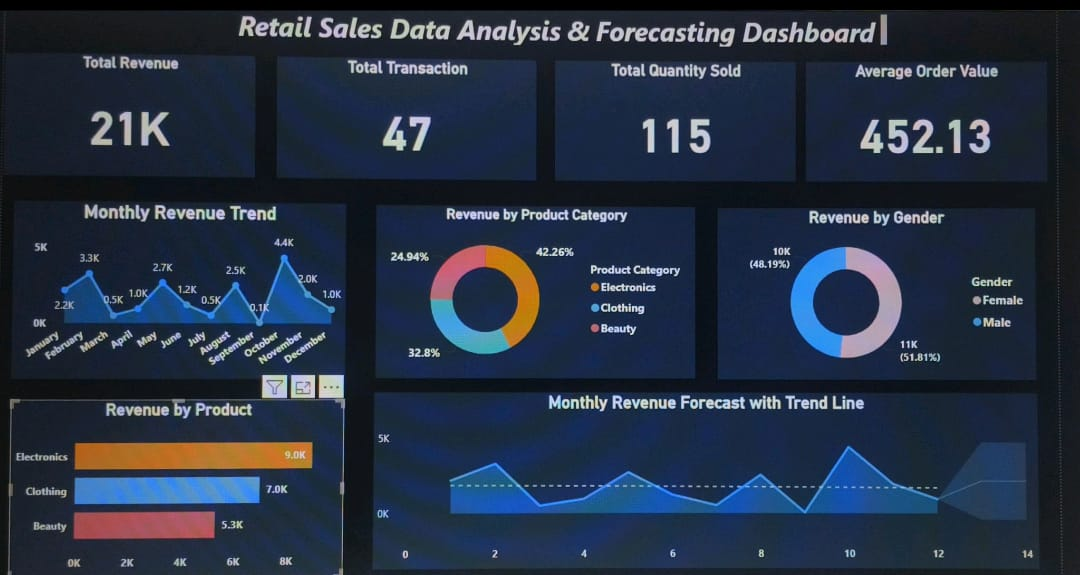

Layout of this report page (visuals, bound fields, positions):
{"tool":"powerbi","page":{"name":"Page 1","canvas":[1280,720],"ordinal":0},"visuals":[{"type":"textbox","box":[272.7,0,803.4,50.1],"z":0},{"type":"card","title":"Total Revenue","fields":{"Values":["Sum(retail_sales_dataset.Revenue)"]},"box":[0,62.4,299.6,150.4],"z":1000},{"type":"card","title":"Total Transaction","fields":{"Values":["retail_sales_dataset.Total Transactions"]},"box":[322.8,62.4,316.7,150.4],"z":2000},{"type":"card","title":"Total Quantity Sold","fields":{"Values":["retail_sales_dataset.Total Quantity Sold"]},"box":[660.3,62.4,299.6,150.4],"z":3000},{"type":"card","title":"Average Order Value","fields":{"Values":["retail_sales_dataset.Average Order Value"]},"box":[969.7,62.4,299.6,150.4],"z":4000},{"type":"lineChart","title":"Monthly Revenue Trend ","fields":{"Category":["retail_sales_dataset.Month"],"Y":["Sum(retail_sales_dataset.Revenue)"]},"box":[14.7,242.1,392.5,214],"z":5000},{"type":"donutChart","title":"Revenue by Product Category","fields":{"Category":["retail_sales_dataset.Product Category"],"Y":["Sum(retail_sales_dataset.Revenue)"]},"box":[442.7,242.1,392.5,214],"z":6000},{"type":"donutChart","title":"\tRevenue by Gender","fields":{"Category":["retail_sales_dataset.Gender"],"Y":["Sum(retail_sales_dataset.Revenue)"]},"box":[860.9,243.3,392.5,214],"z":7000},{"type":"clusteredBarChart","title":"Revenue by Product","fields":{"Y":["Sum(retail_sales_dataset.Revenue)"],"Category":["retail_sales_dataset.Product Category"]},"box":[14.7,480.6,392.5,214],"z":8000},{"type":"lineChart","title":"Monthly Revenue Forecast with Trend Line","fields":{"Y":["Sum(retail_sales_dataset.Revenue)"],"Category":["retail_sales_dataset.MonthNumber"]},"box":[442.7,472,810.7,214],"z":8001}]}

Visuals, with their boxes on the page's 1280x720 design canvas (x1, y1, x2, y2). These are canvas units, not pixel positions in the 1080x575 screenshot, which may show the page scaled, cropped or inside an application window:
textbox: <box>273,0,1076,50</box>
"Total Revenue" card: <box>0,62,300,213</box>
"Total Transaction" card: <box>323,62,640,213</box>
"Total Quantity Sold" card: <box>660,62,960,213</box>
"Average Order Value" card: <box>970,62,1269,213</box>
"Monthly Revenue Trend " lineChart: <box>15,242,407,456</box>
"Revenue by Product Category" donutChart: <box>443,242,835,456</box>
"	Revenue by Gender" donutChart: <box>861,243,1253,457</box>
"Revenue by Product" clusteredBarChart: <box>15,481,407,695</box>
"Monthly Revenue Forecast with Trend Line" lineChart: <box>443,472,1253,686</box>
